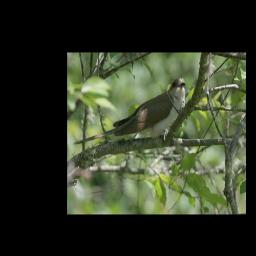Cuckoo: (72, 76, 186, 147)
